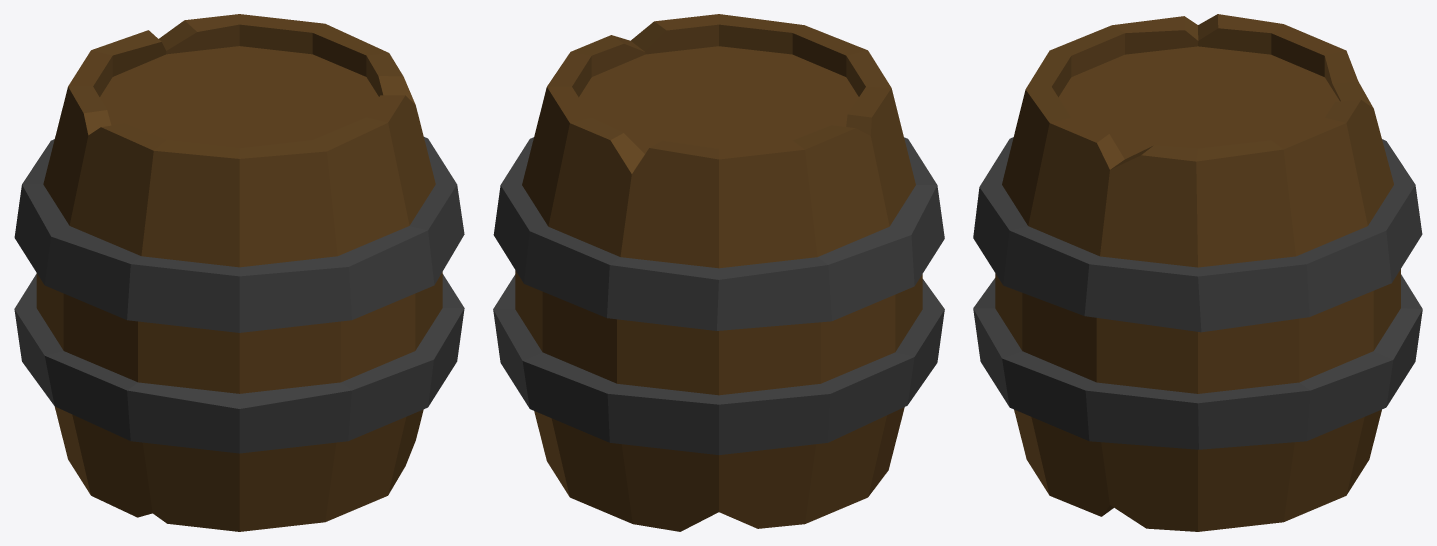
Rendered from Barrel.fbx.
3 views of the same model, side by side, from view 1: azimuth 30°, elevation 25°; view 2: azimuth 150°, elevation 25°; view 3: azimuth 270°, elevation 25° (orthographic).
Visible parts, largest first — view 1: Barrel; view 2: Barrel; view 3: Barrel.
Boxes of the visible parts, bbox=[...] form: Barrel: bbox=[14, 14, 464, 531]; Barrel: bbox=[493, 14, 944, 531]; Barrel: bbox=[973, 14, 1422, 531].
Size of the model in its own units: 131 by 121 by 131.
